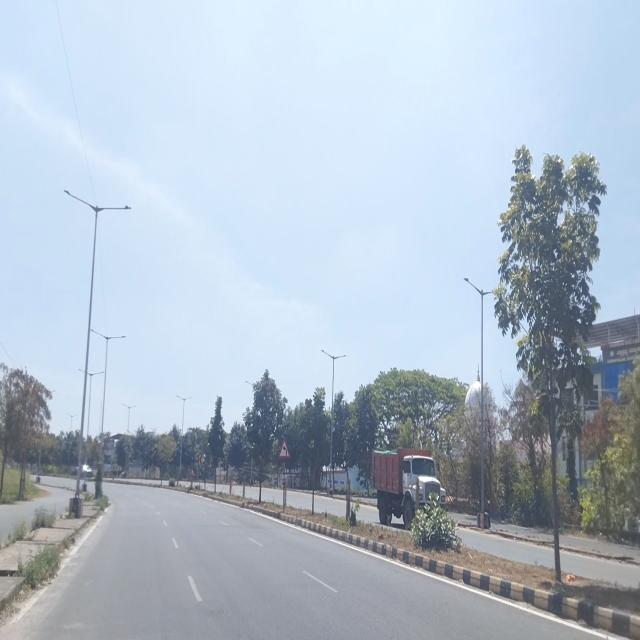bien_cam: (279, 439, 290, 459)
